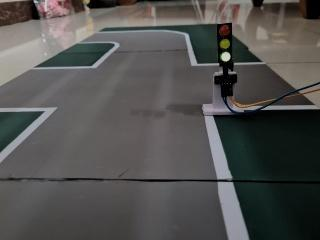green: (209, 17, 246, 74)
